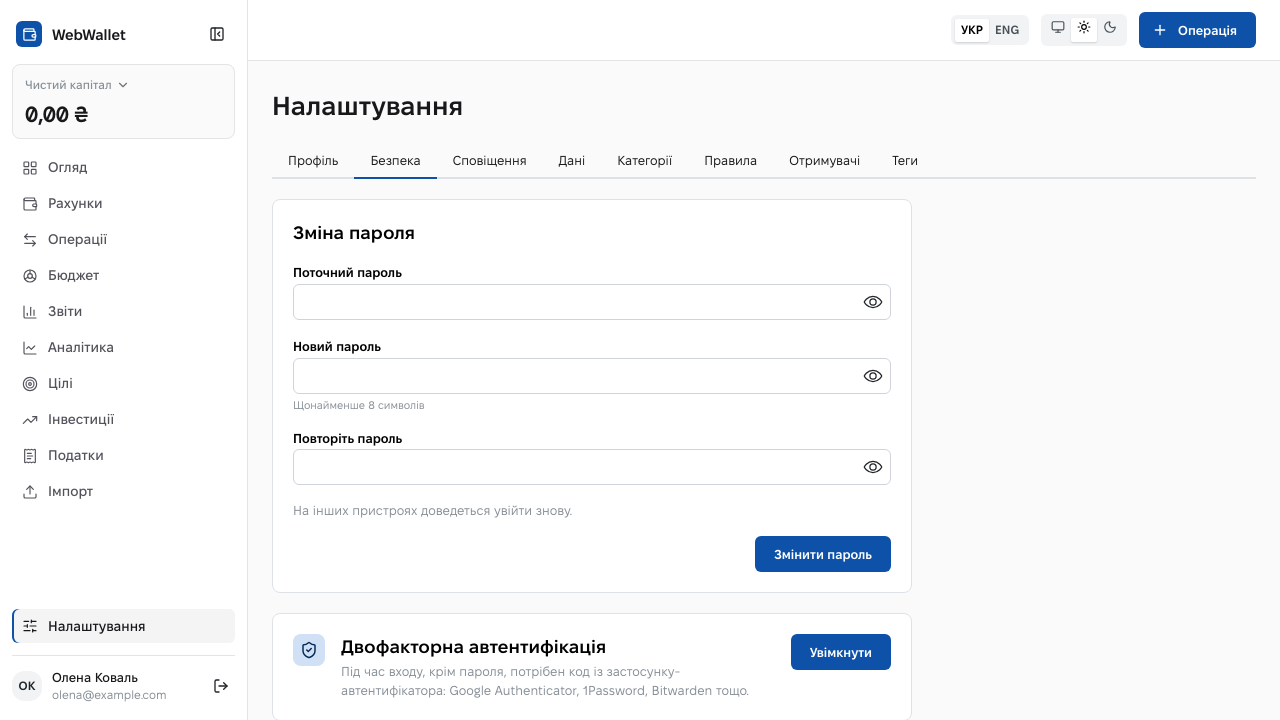
shows a wrong password at its field and keeps the dialog
The image size is (1280, 720).
Click the button "Увімкнути".
click(841, 652)  # box [791, 634, 891, 670]
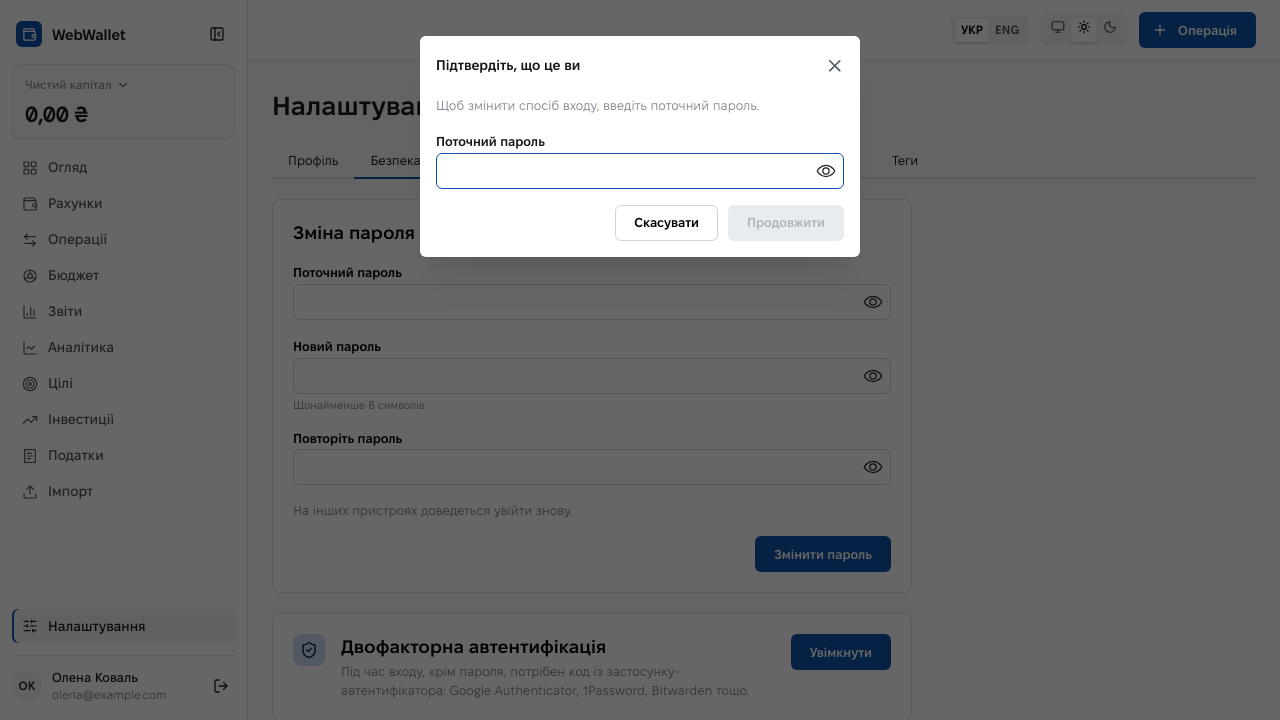
Type "wrong" into the password field labelled "Поточний пароль".
click(640, 170); type("wrong")  # box [437, 154, 843, 188]
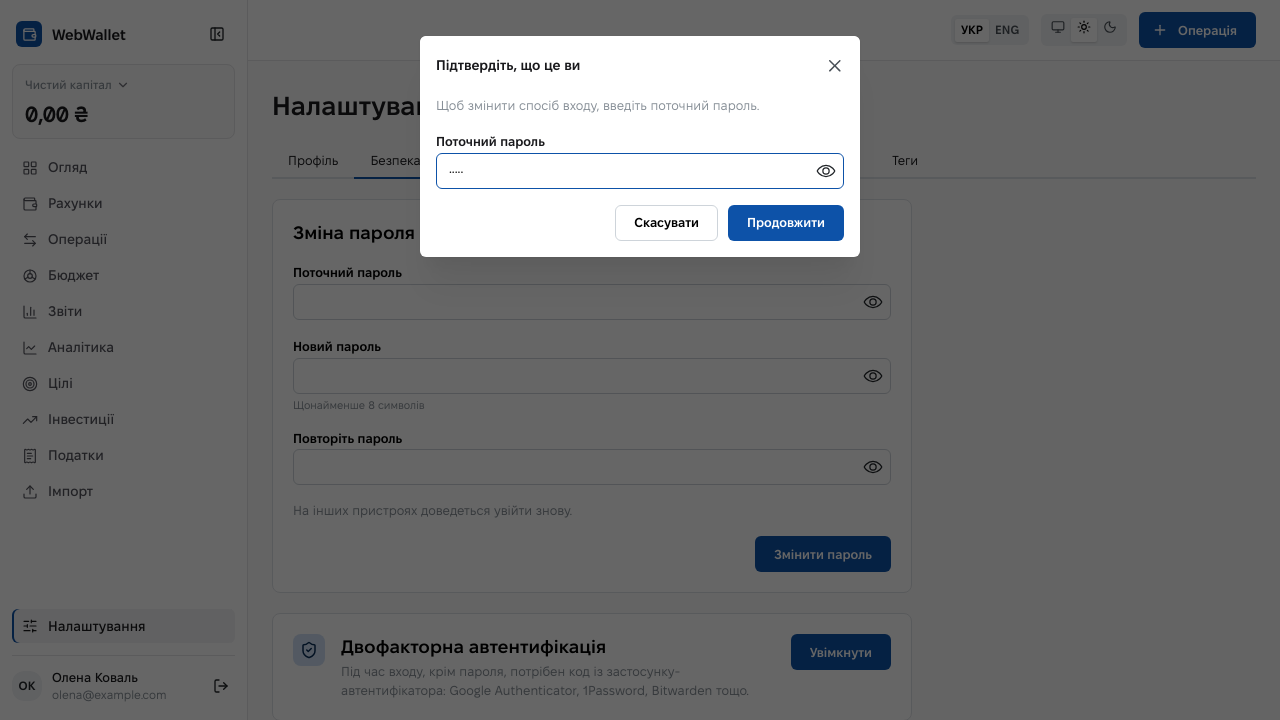
Click the button "Продовжити".
click(786, 222)  # box [728, 204, 844, 240]
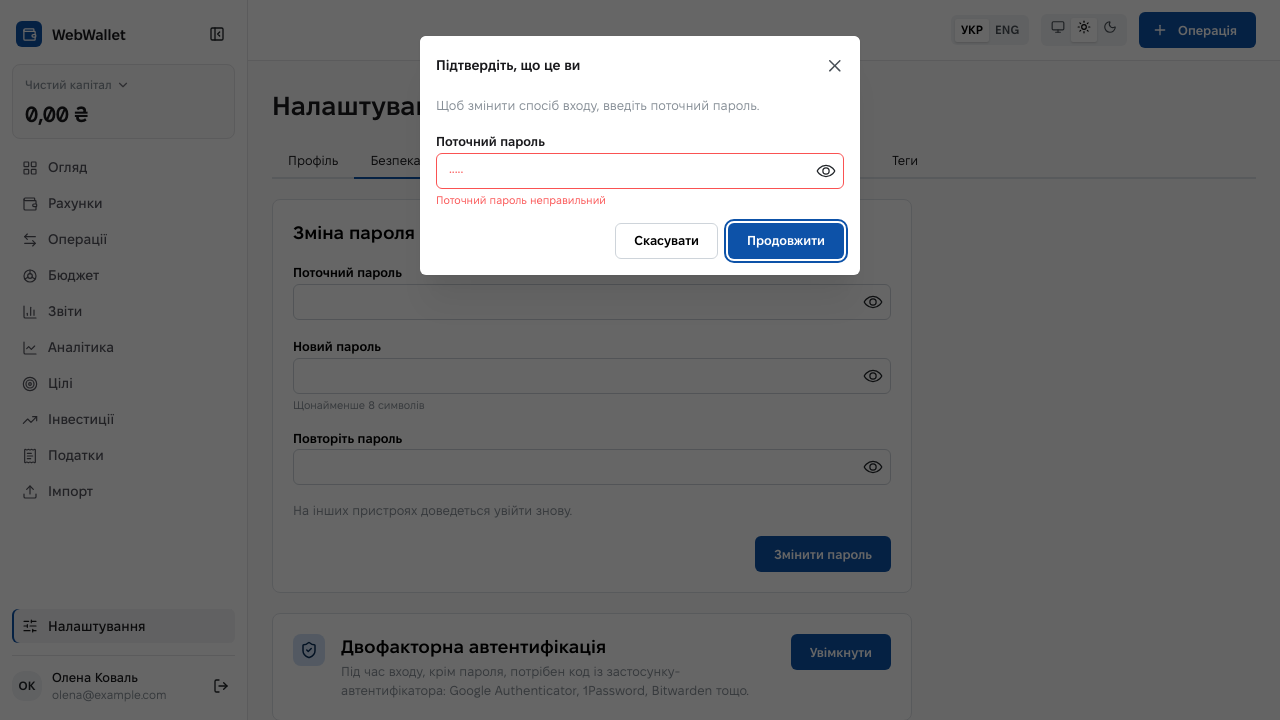
Expected: the text "Поточний пароль неправильний" is shown, [436, 194, 606, 206]
